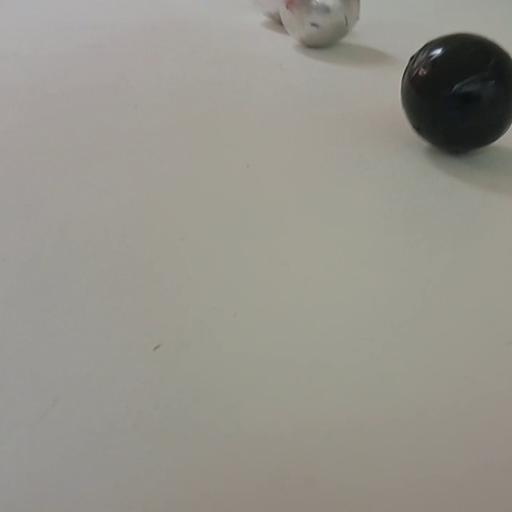alive: (276, 0, 356, 48), (255, 0, 302, 26)
dead: (401, 32, 511, 154)
